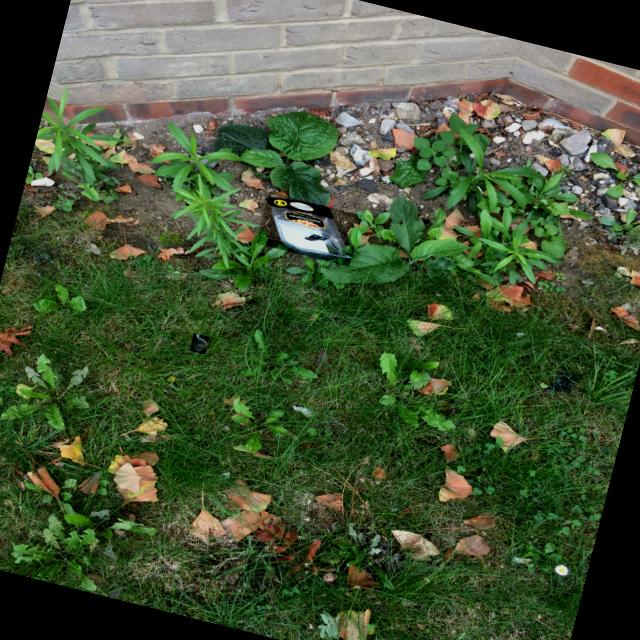Food container: (268, 196, 350, 260)
Plastic film: (267, 197, 350, 258), (190, 334, 206, 352)
